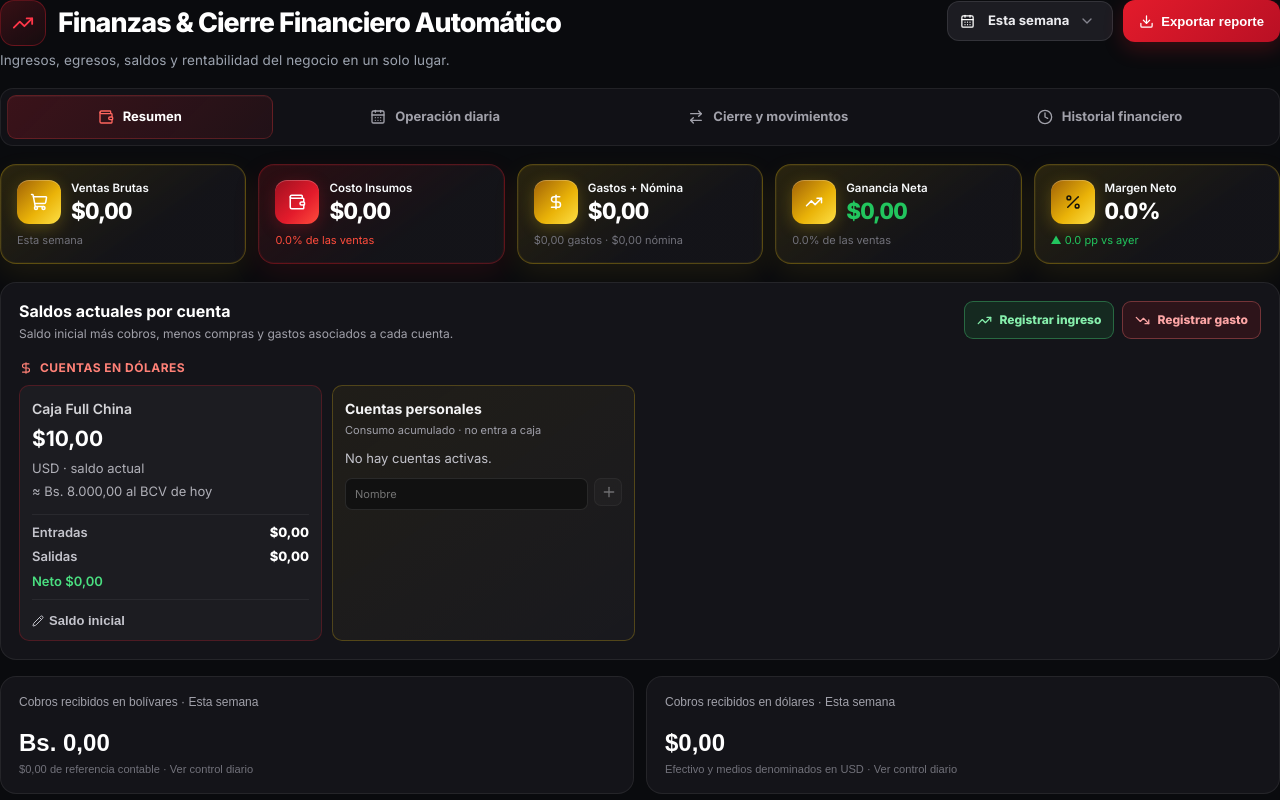
Test: Finanzas › mantiene las cuentas visibles y abre el control diario aunque falle Compras
The image size is (1280, 800).
Expected: the text "Caja Full China" is shown, [32,400,132,417]
Click the button "Cobros recibidos en dólares".
click(745, 702)  # box [646,676,1279,794]
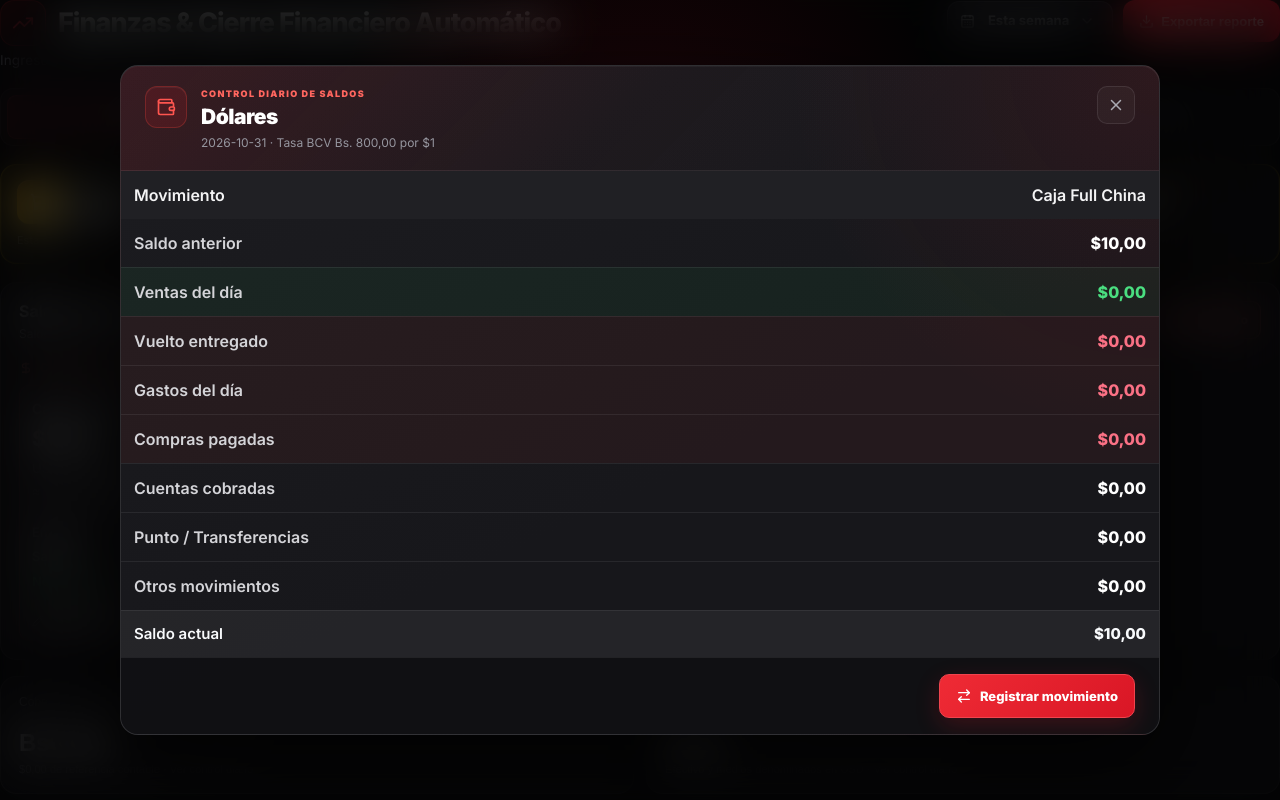
Now the dialog shows "Control diario de saldos", box [201,88,365,99]
Now the dialog shows "Caja Full China", box [1032,185,1146,205]
